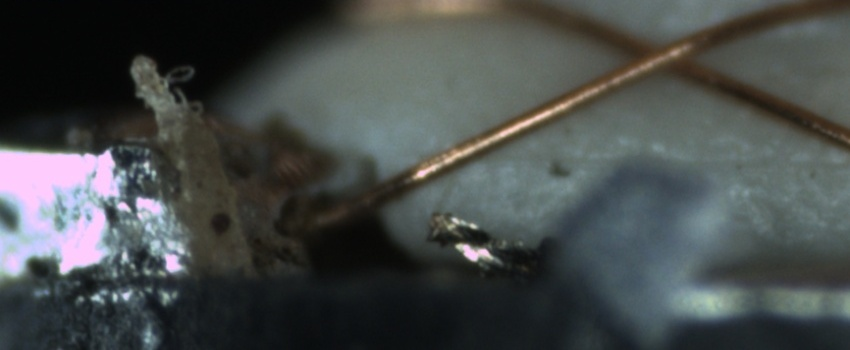CL: (609, 23, 713, 87)
DL: (484, 133, 850, 187)
